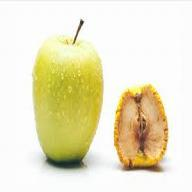apple: (34, 36, 100, 164), (112, 82, 169, 170)
